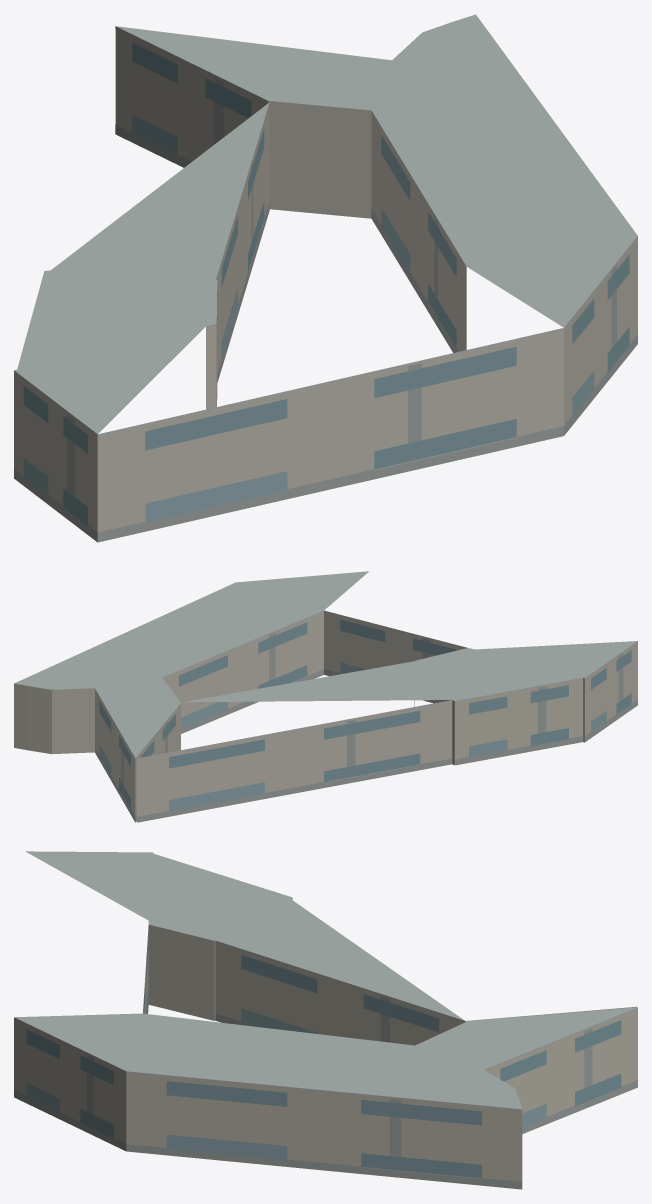
The model's file is survey-upis-32783265.glb.
The picture shows the model from 3 angles, top to bottom: view 1: azimuth 30°, elevation 25°; view 2: azimuth 150°, elevation 25°; view 3: azimuth 270°, elevation 25°; orthographic projection. The views are drawn at different scales.
Visible parts, largest first — view 1: survey-upis-32783265.tmp; view 2: survey-upis-32783265.tmp; view 3: survey-upis-32783265.tmp.
Boxes of the visible parts, x1=… form: survey-upis-32783265.tmp: x1=14, y1=14, x2=637, y2=542; survey-upis-32783265.tmp: x1=14, y1=571, x2=637, y2=822; survey-upis-32783265.tmp: x1=14, y1=851, x2=637, y2=1189.
Bounding box in the file's own units: 63.15 × 9.15 × 64.55.
